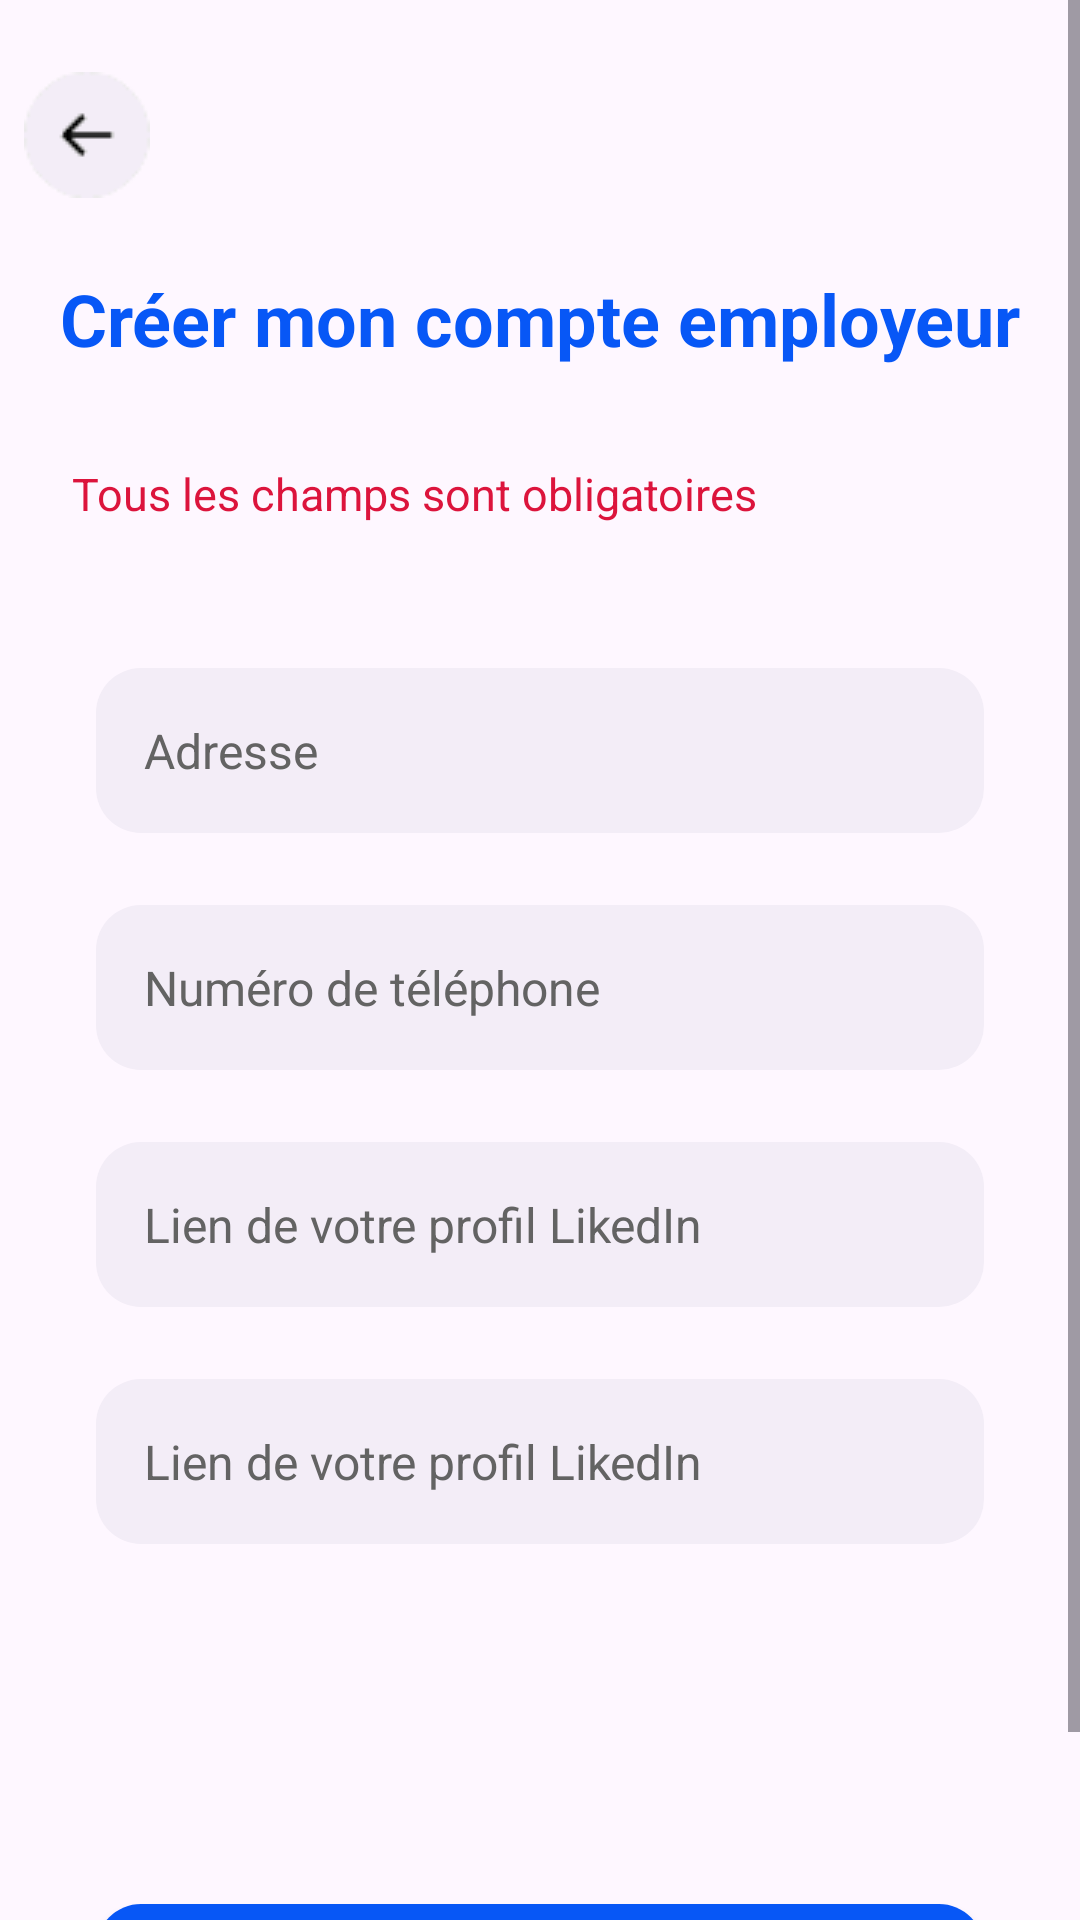

Locate icon controls on the screen. Image size 1080×1920, boxes as (x1, y1, x2, y2).
back: (24, 72, 150, 198)
